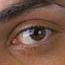eye: (29, 27, 45, 40)
